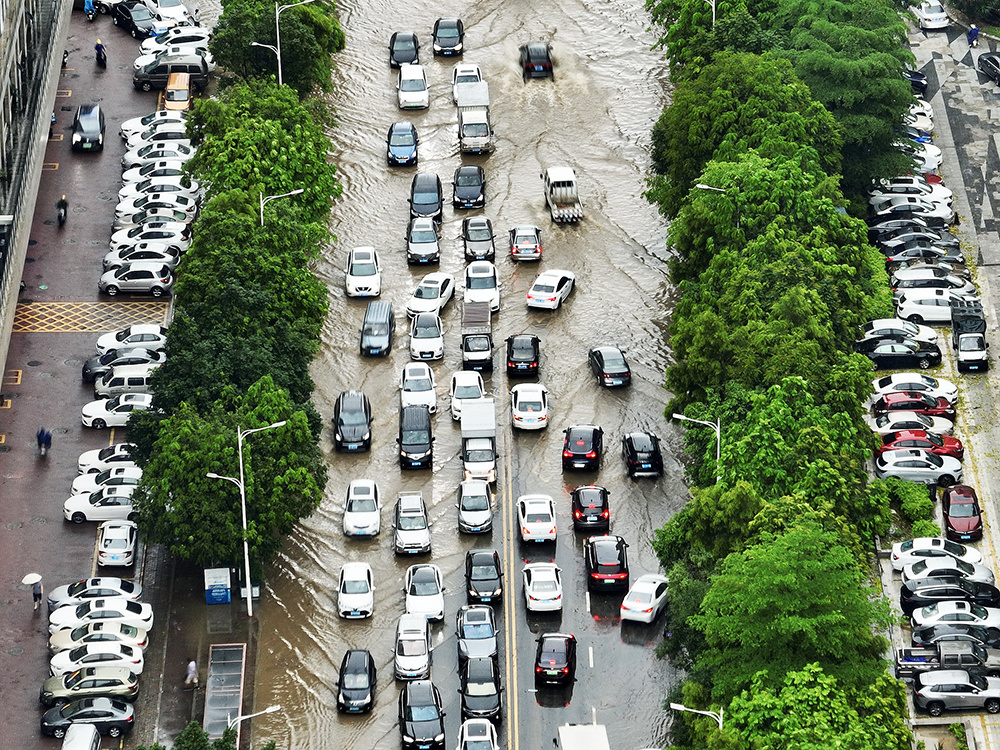puddle: (486, 6, 666, 328)
